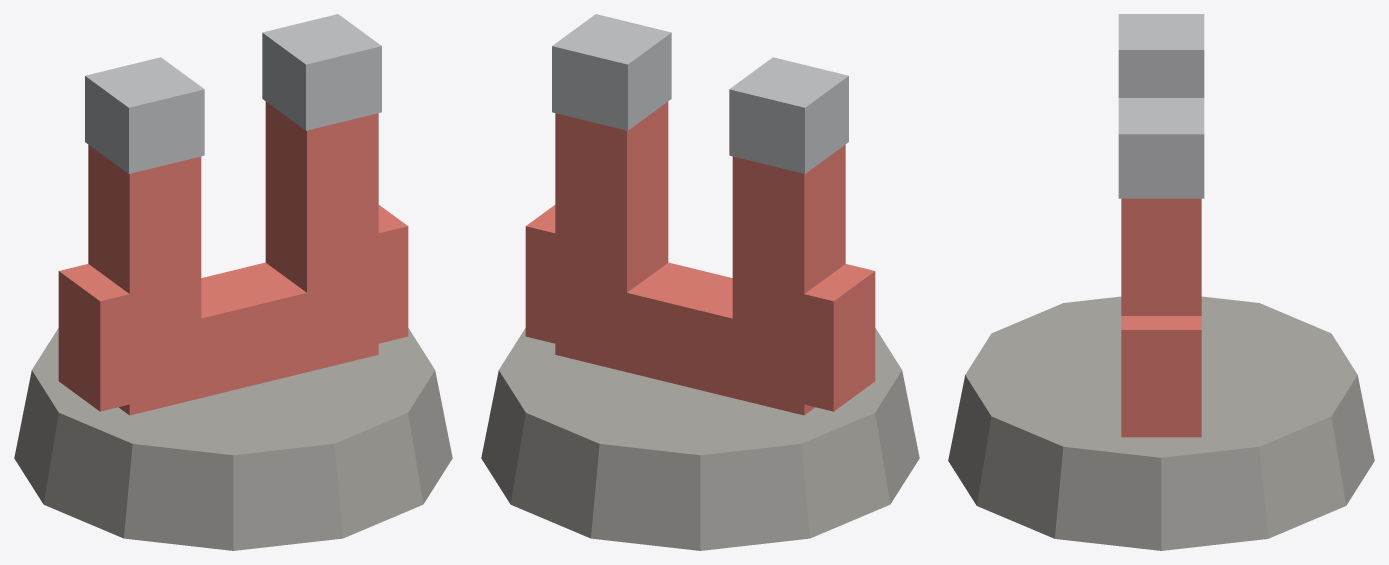
File: magnet_shrine.glb
3 renders of one model, left to right at view 1: azimuth 30°, elevation 25°; view 2: azimuth 150°, elevation 25°; view 3: azimuth 270°, elevation 25°, orthographic. The views are drawn at different scales.
Visible parts, largest first — view 1: magnet_shrine; view 2: magnet_shrine; view 3: magnet_shrine.
Boxes of the visible parts, left/top/right/bottom form: magnet_shrine: left=14, top=14, right=452, bottom=550; magnet_shrine: left=481, top=14, right=919, bottom=550; magnet_shrine: left=948, top=14, right=1374, bottom=550.
Size of the model in its own units: 1.8 by 1.8 by 1.8.
